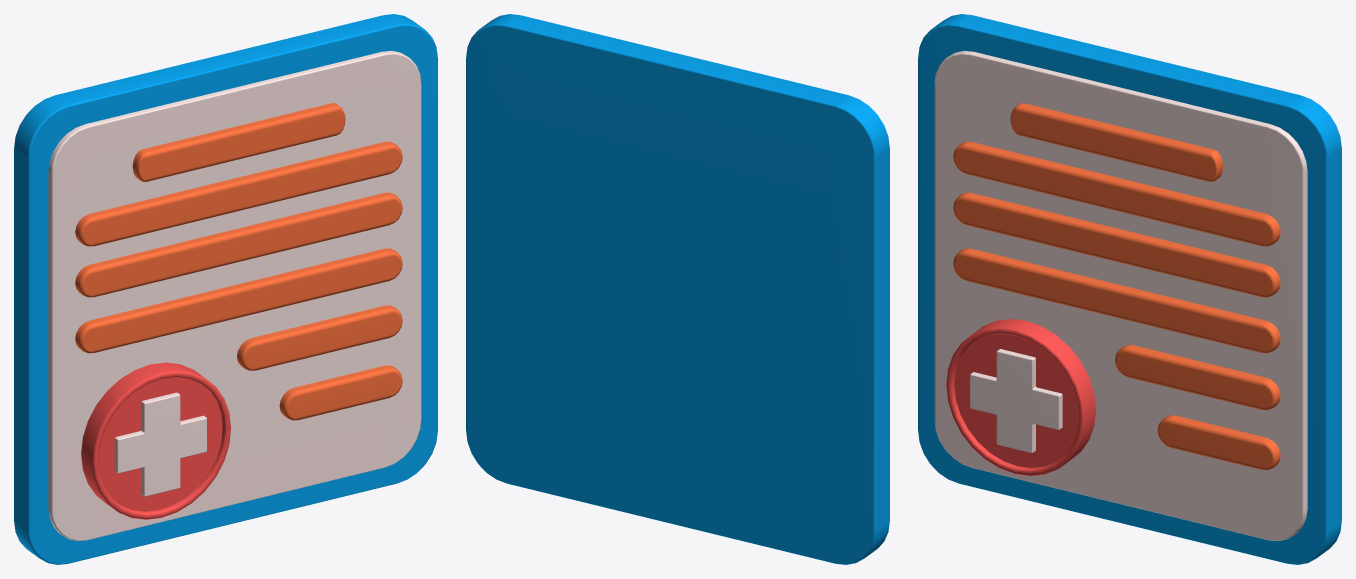
Rendered from Store_15_Prescription_for_medicine_2.glb.
3 views of the same model, side by side, from view 1: azimuth 30°, elevation 25°; view 2: azimuth 150°, elevation 25°; view 3: azimuth 330°, elevation 25° (orthographic).
Parts seen in each view (by area): view 1: Store_15_Prescription_for_medicine_2; view 2: Store_15_Prescription_for_medicine_2; view 3: Store_15_Prescription_for_medicine_2.
Part boxes in pixels (x1,y1,x2,y2): Store_15_Prescription_for_medicine_2: [14, 14, 437, 564]; Store_15_Prescription_for_medicine_2: [466, 14, 889, 564]; Store_15_Prescription_for_medicine_2: [918, 14, 1341, 564].
Bounding box in the file's own units: 3.88 × 4.14 × 0.5518.
1 material, 1 textured.
